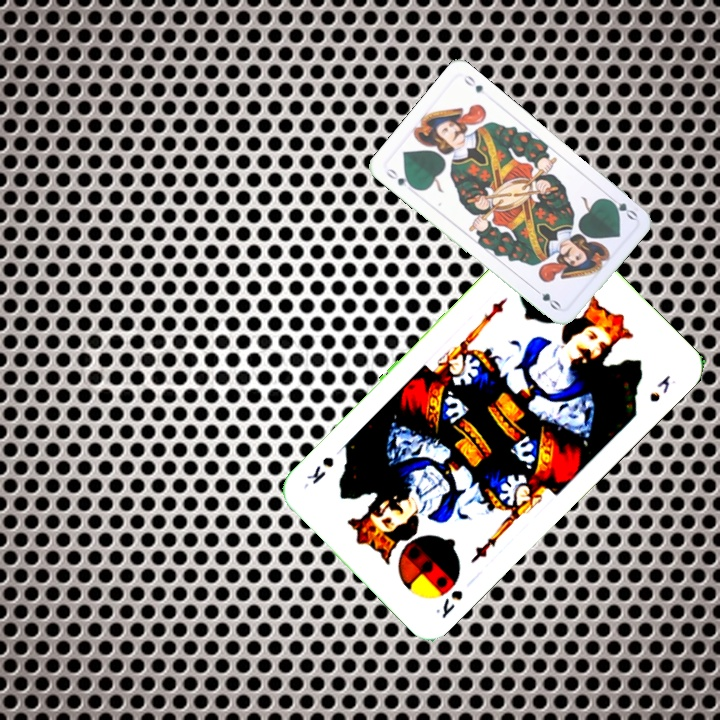GO: (602, 191, 640, 223), (382, 164, 418, 192)
SK: (431, 586, 466, 622)
